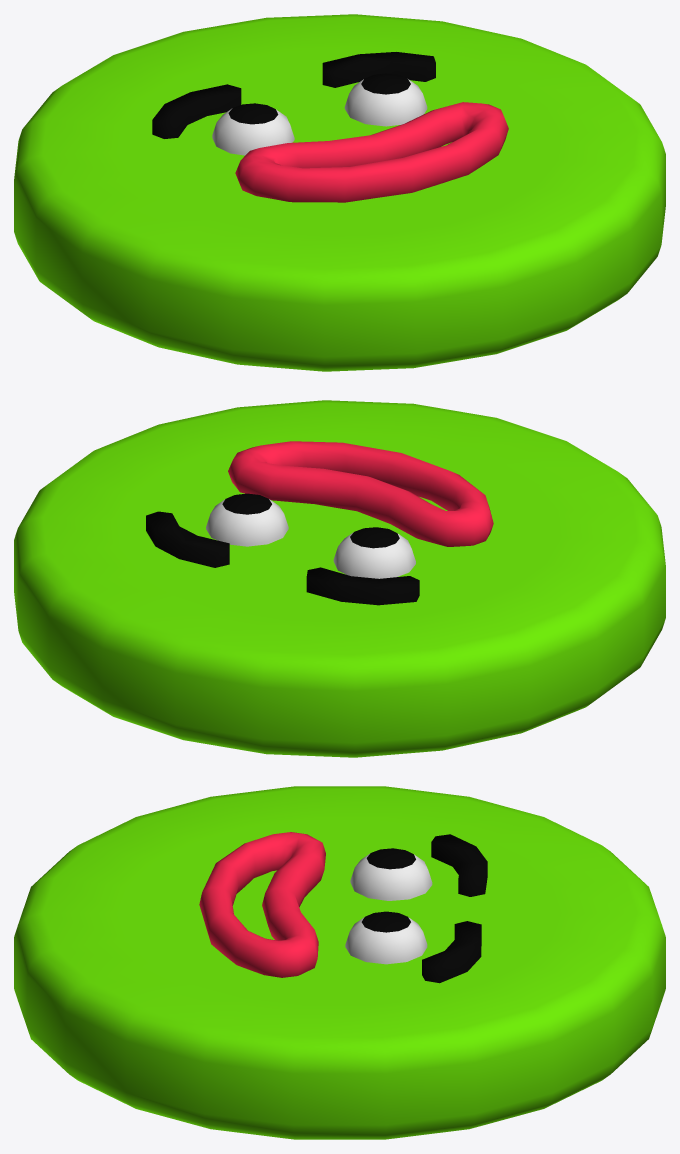
File: Disk.fbx
3 views of the same model, one above another, from view 1: azimuth 30°, elevation 25°; view 2: azimuth 150°, elevation 25°; view 3: azimuth 270°, elevation 25° (orthographic).
Parts seen in each view (by area): view 1: Disk; view 2: Disk; view 3: Disk.
Part boxes in pixels (x1,y1,x2,y2): Disk: [14, 14, 665, 371]; Disk: [14, 400, 665, 757]; Disk: [14, 786, 665, 1139].
Bounding box in the file's own units: 1.98 × 0.5292 × 2.
